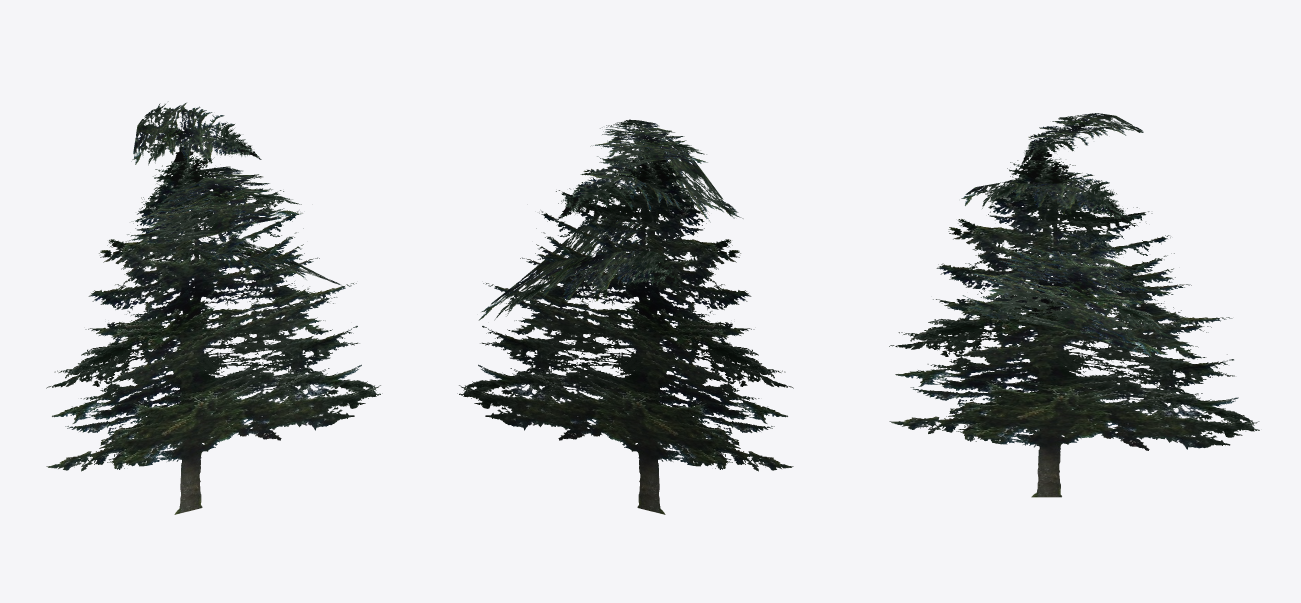
The model's file is tree-blue-green-canopy.glb.
The picture shows the model from 3 angles, left to right: view 1: azimuth 30°, elevation 25°; view 2: azimuth 150°, elevation 25°; view 3: azimuth 270°, elevation 25°; orthographic projection. The views are drawn at different scales.
Parts seen in each view (by area): view 1: tree-blue-green-canopy; view 2: tree-blue-green-canopy; view 3: tree-blue-green-canopy.
Part boxes in pixels (x1=…): tree-blue-green-canopy: x1=46, y1=101, x2=382, y2=514; tree-blue-green-canopy: x1=457, y1=119, x2=793, y2=514; tree-blue-green-canopy: x1=889, y1=113, x2=1259, y2=497.
Bounding box in the file's own units: 9 × 9 × 9.
Materials: 1 (1 with a texture image).
